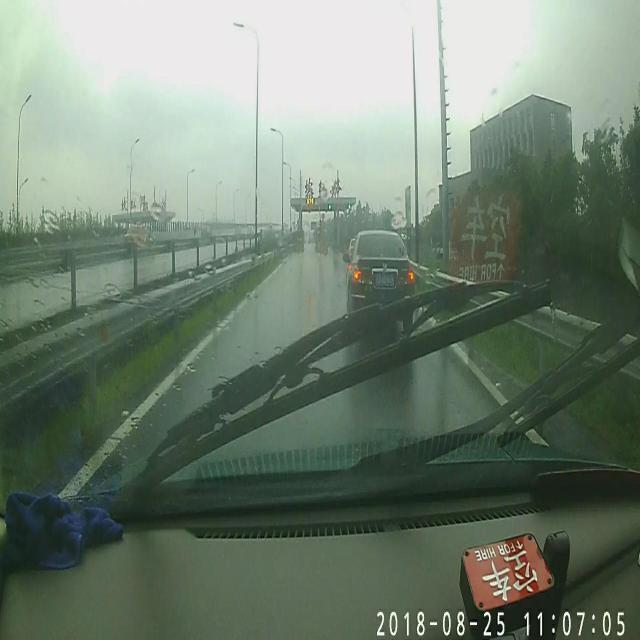car: (342, 230, 415, 330)
